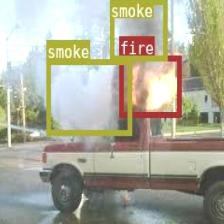fire: (119, 55, 180, 116)
smoke: (46, 59, 131, 135), (109, 0, 166, 60)
